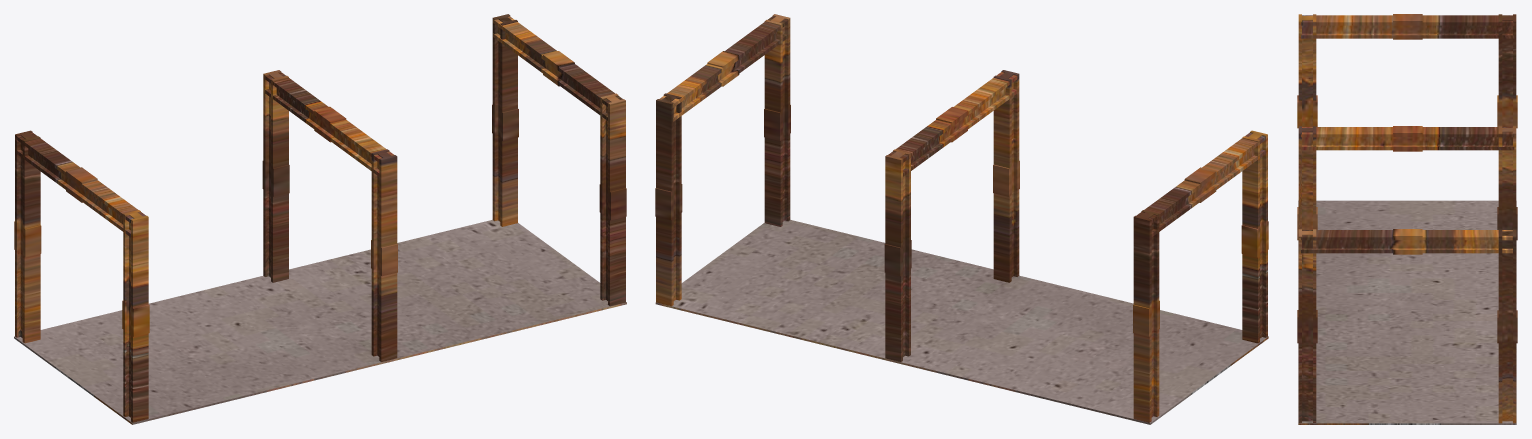
The model's file is SteelFrame.fbx.
3 views of the same model, side by side, from view 1: azimuth 30°, elevation 25°; view 2: azimuth 150°, elevation 25°; view 3: azimuth 270°, elevation 25° (orthographic). The views are drawn at different scales.
Visible parts, largest first — view 1: 平面; view 2: 平面; view 3: 平面.
Part boxes in pixels (box(x1,y1,x2,y2)): 平面: box(14, 14, 626, 424); 平面: box(655, 14, 1268, 424); 平面: box(1297, 14, 1517, 424).
Size of the model in its own units: 1417 by 560 by 593.
1 material, 1 textured.
